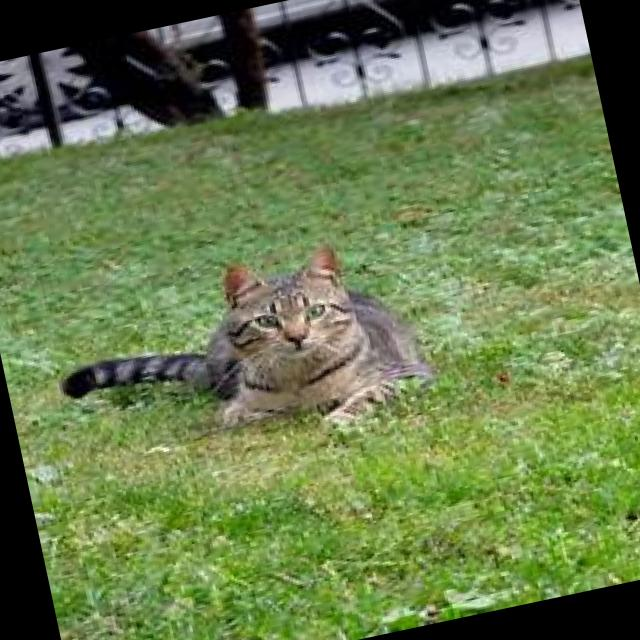cat: (44, 224, 442, 484)
